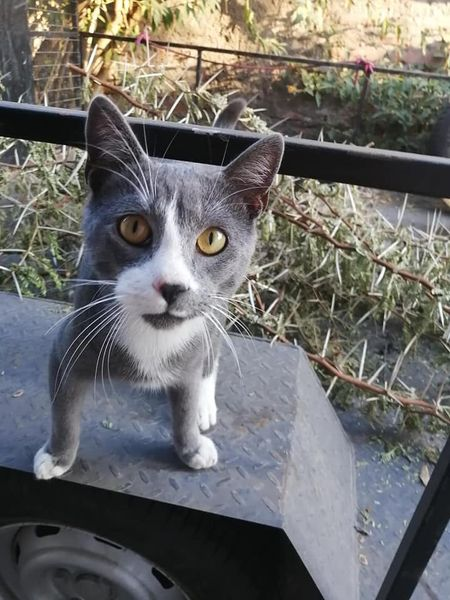cat: (34, 74, 282, 494)
